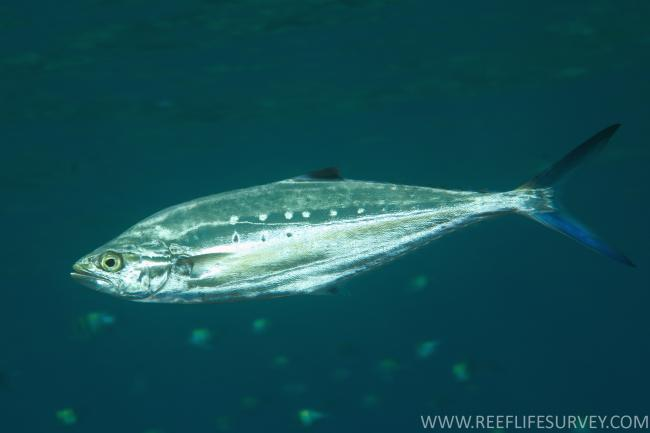fish: (69, 123, 636, 305)
